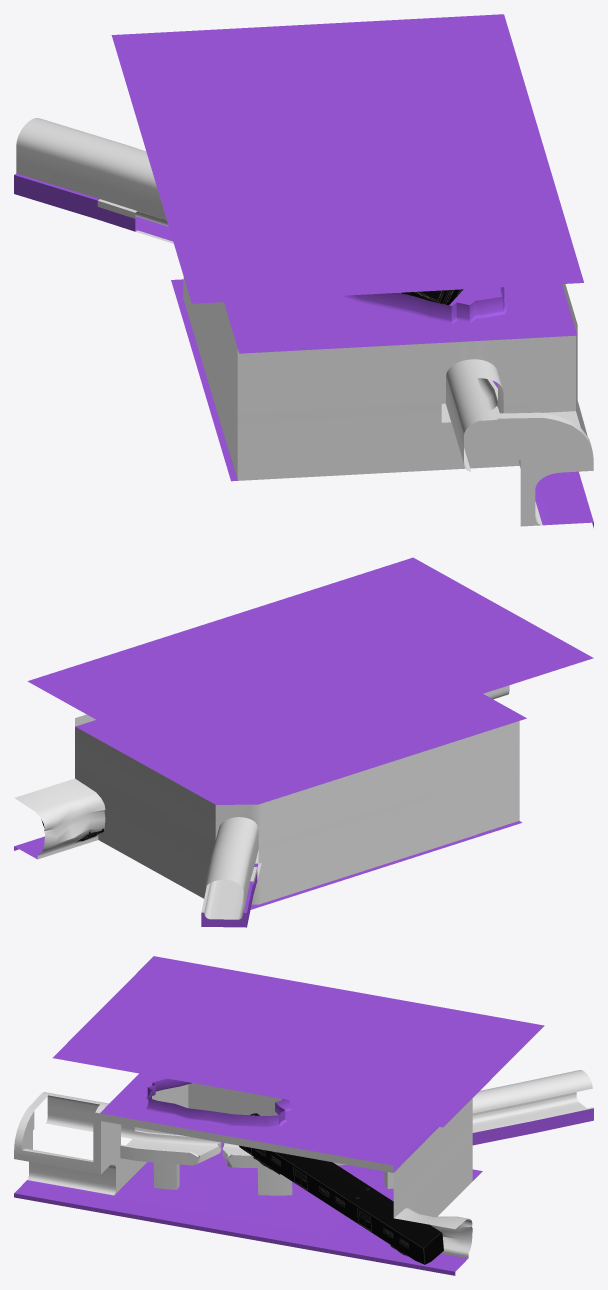
The model's file is Enviro_trailer.fbx.
3 views of the same model, one above another, from view 1: azimuth 30°, elevation 25°; view 2: azimuth 150°, elevation 25°; view 3: azimuth 270°, elevation 25° (orthographic). The views are drawn at different scales.
Visible parts, largest first — view 1: Cylinder; view 2: Cylinder; view 3: Cylinder, FinalMetro__1_.
Part boxes in pixels (x1,y1,x2,y2): Cylinder: [14, 14, 593, 527]; Cylinder: [14, 557, 593, 927]; Cylinder: [14, 956, 593, 1275]; FinalMetro__1_: [239, 1113, 443, 1264].
Bounding box in the file's own units: 4217 × 1648 × 5933.
